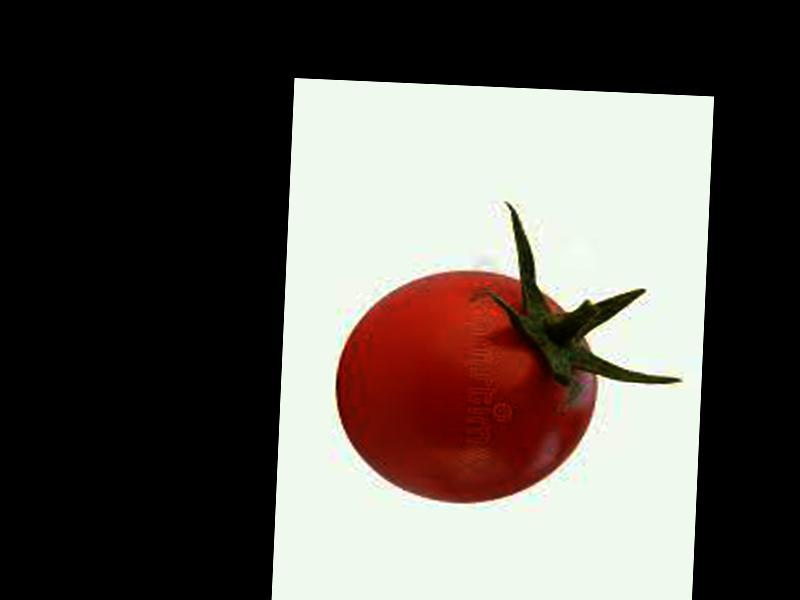Tomato: (330, 267, 600, 509)
